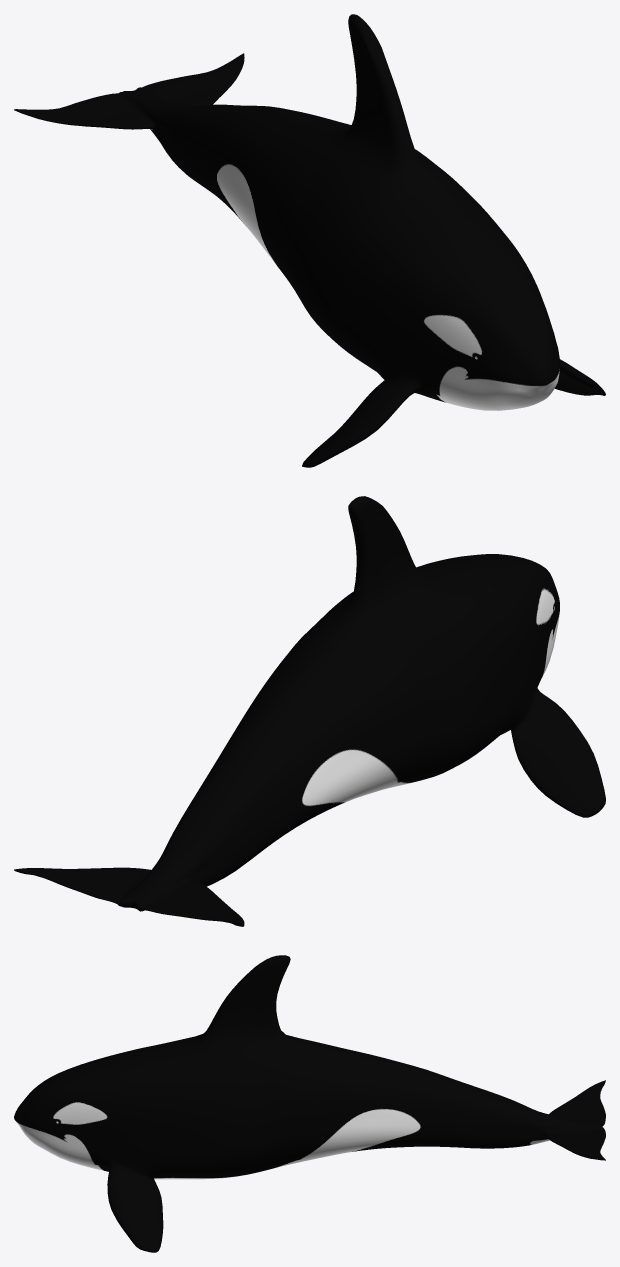
The model's file is orca.glb.
3 views of the same model, one above another, from view 1: azimuth 30°, elevation 25°; view 2: azimuth 150°, elevation 25°; view 3: azimuth 270°, elevation 25° (orthographic). The views are drawn at different scales.
Parts seen in each view (by area): view 1: Cube; view 2: Cube; view 3: Cube.
Boxes of the visible parts, x1,y1,x2,y2 form: Cube: (14,14,605,467); Cube: (14,496,605,926); Cube: (14,955,605,1252).
Size of the model in its own units: 1.76 by 1.97 by 4.27.
1 material, 1 textured.
